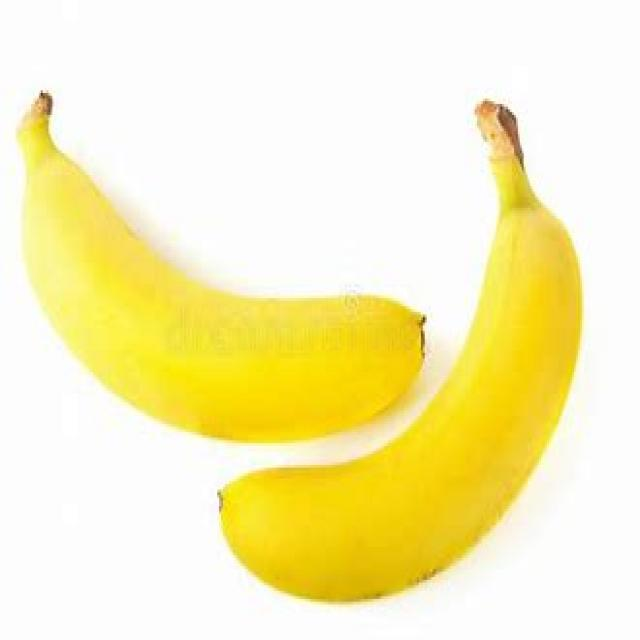Banana: (212, 92, 590, 598), (16, 93, 426, 449)
